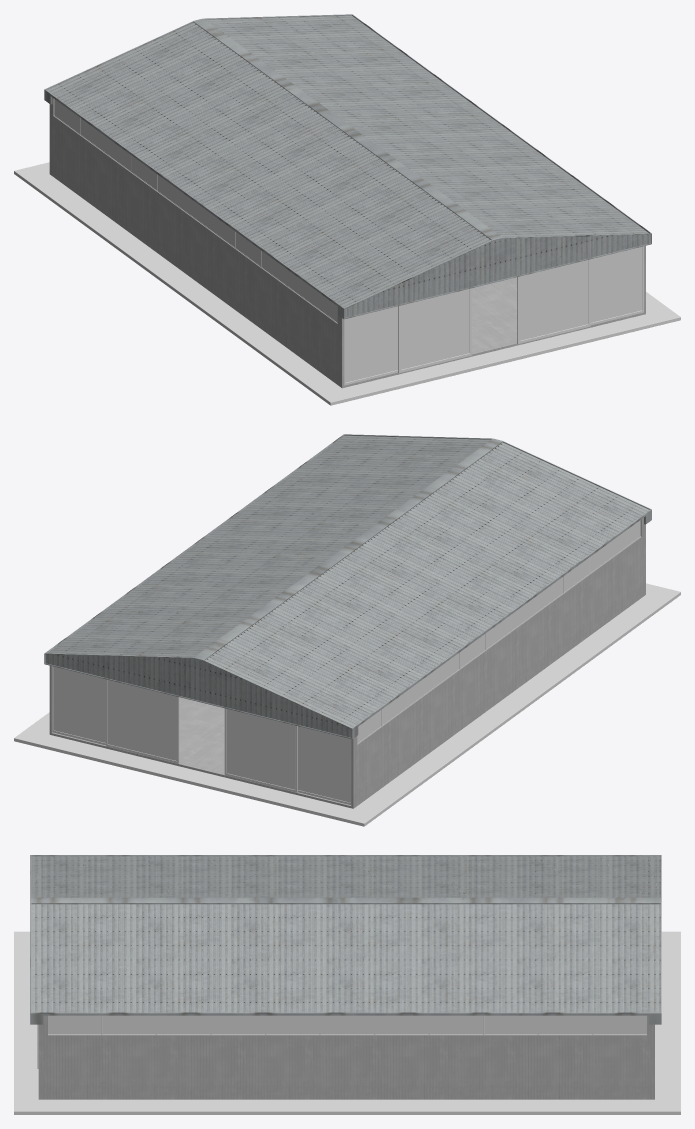
File: ShedMesh (1).fbx
3 views of the same model, one above another, from view 1: azimuth 30°, elevation 25°; view 2: azimuth 150°, elevation 25°; view 3: azimuth 270°, elevation 25° (orthographic). The views are drawn at different scales.
Visible parts, largest first — view 1: Cube.001, Cube, Cube.002, Plane.206, Plane.253, Cube.003; view 2: Cube.001, Cube, Cube.002, Plane.206, Plane.253, Cube.003; view 3: Cube.001, Cube, Cube.002, Cube.003.
Boxes of the visible parts, left/top/right/bottom form: Cube.001: left=44, top=14, right=651, bottom=319; Cube: left=49, top=98, right=645, bottom=388; Cube.002: left=14, top=162, right=680, bottom=405; Plane.206: left=398, top=259, right=590, bottom=373; Plane.253: left=344, top=246, right=643, bottom=385; Cube.003: left=54, top=99, right=337, bottom=322; Cube.001: left=44, top=434, right=651, bottom=739; Cube: left=49, top=518, right=645, bottom=808; Cube.002: left=14, top=583, right=680, bottom=826; Plane.206: left=106, top=679, right=297, bottom=792; Plane.253: left=52, top=666, right=351, bottom=804; Cube.003: left=357, top=520, right=640, bottom=743; Cube.001: left=30, top=855, right=661, bottom=1024; Cube: left=38, top=1015, right=654, bottom=1099; Cube.002: left=14, top=931, right=680, bottom=1114; Cube.003: left=48, top=1015, right=646, bottom=1034.
Size of the model in its own units: 2310 by 746 by 3615.
